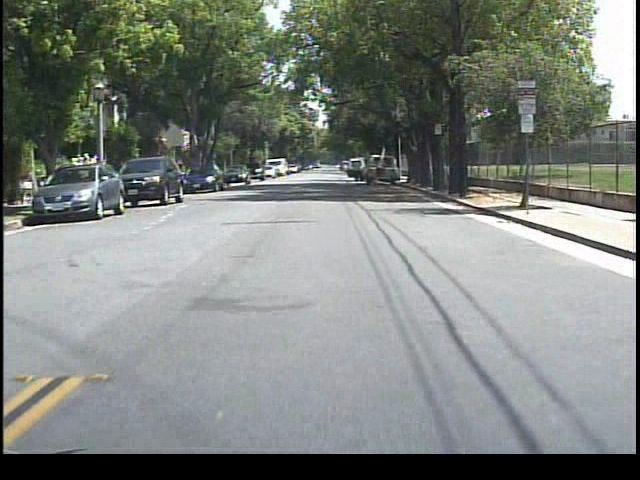person: (348, 159, 364, 184)
